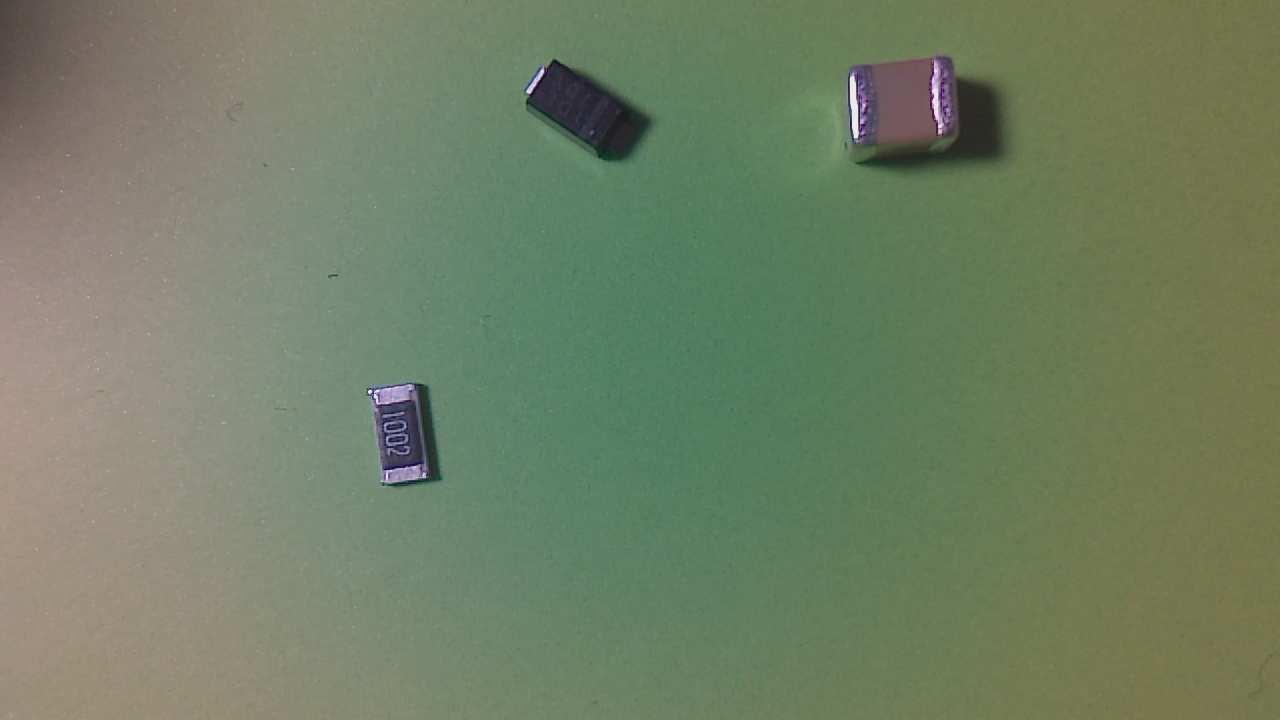Condensator: (847, 60, 965, 154)
Diode: (523, 59, 647, 163)
Resistor: (369, 386, 440, 493)
